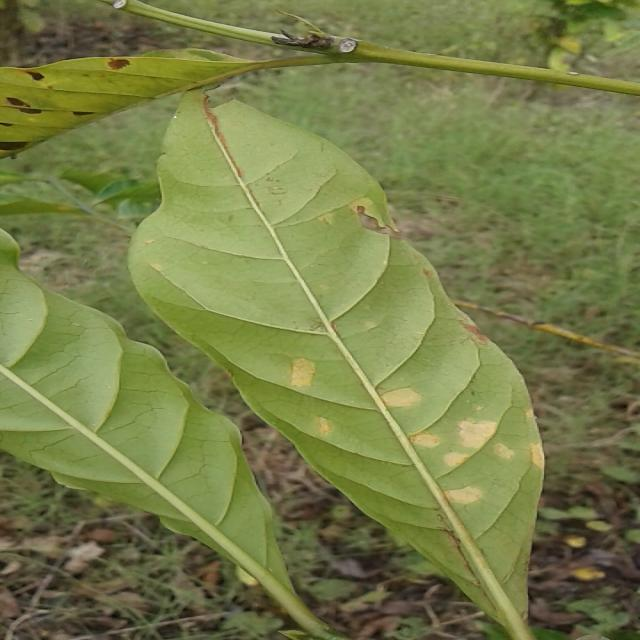Enfermedad-Roya: (125, 86, 547, 640)
